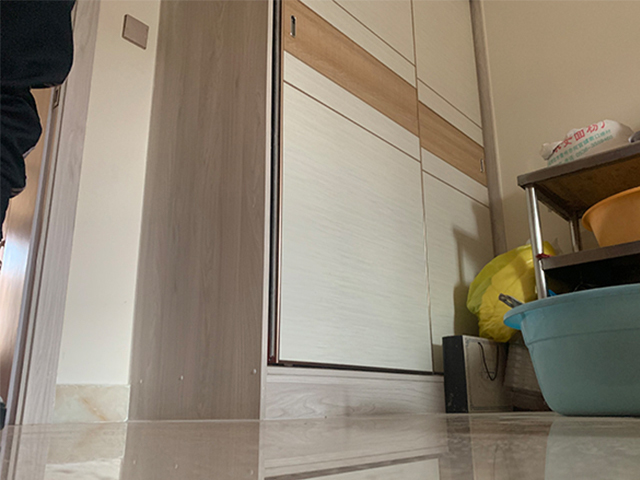cabinet: (130, 1, 497, 422)
